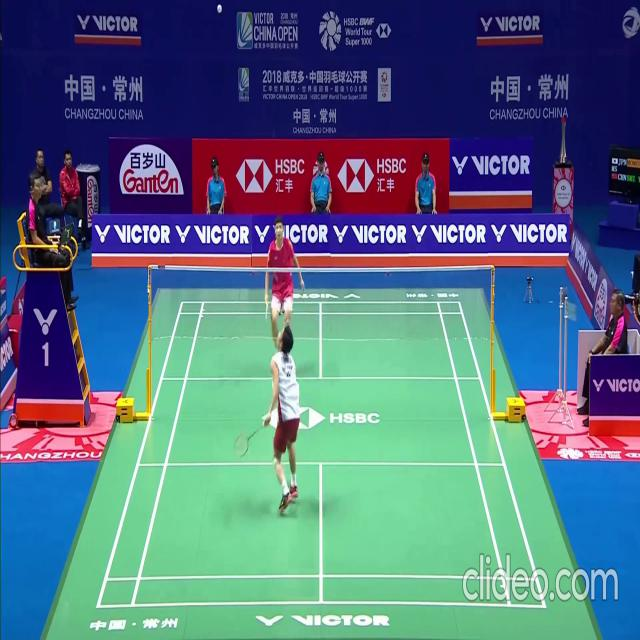Shuttlecock: (217, 5, 222, 13)
